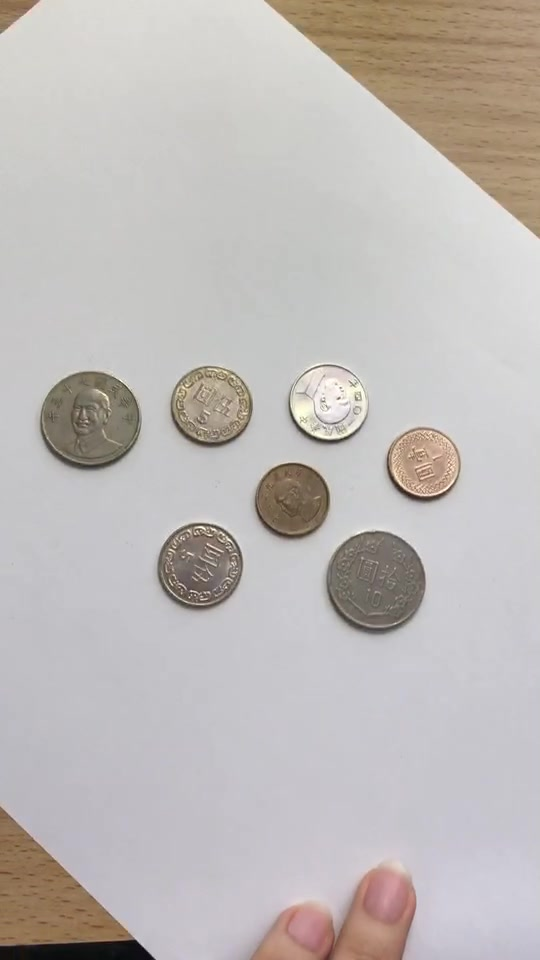1 dallar: (247, 456, 341, 540), (377, 420, 471, 504)
10 dallar: (36, 359, 146, 477), (318, 521, 428, 639)
5 dallar: (152, 513, 249, 612), (163, 359, 260, 458), (276, 350, 373, 449)
